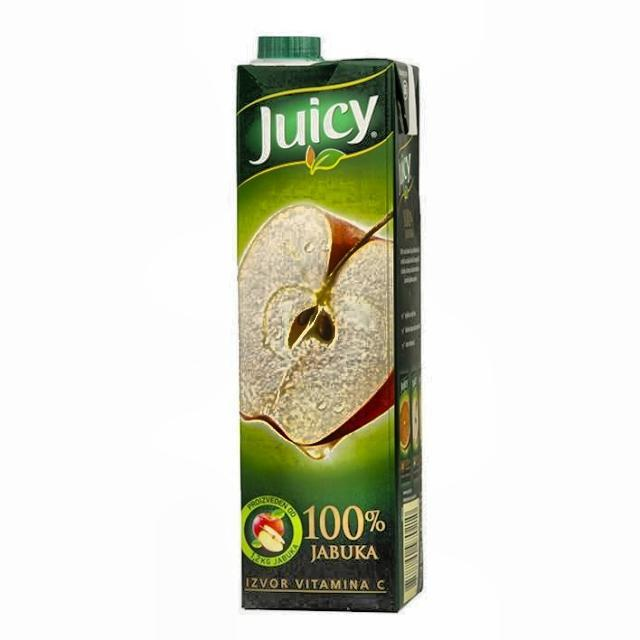cardboard: (235, 36, 424, 612)
